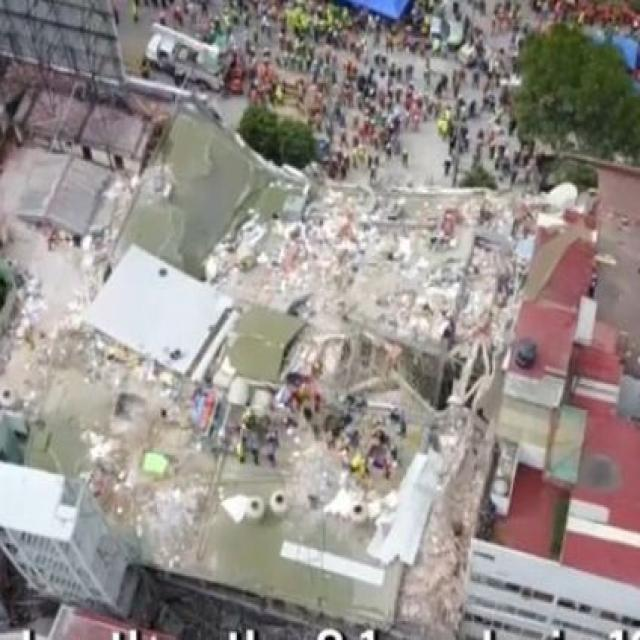collapsed_building: (83, 166, 501, 588)
